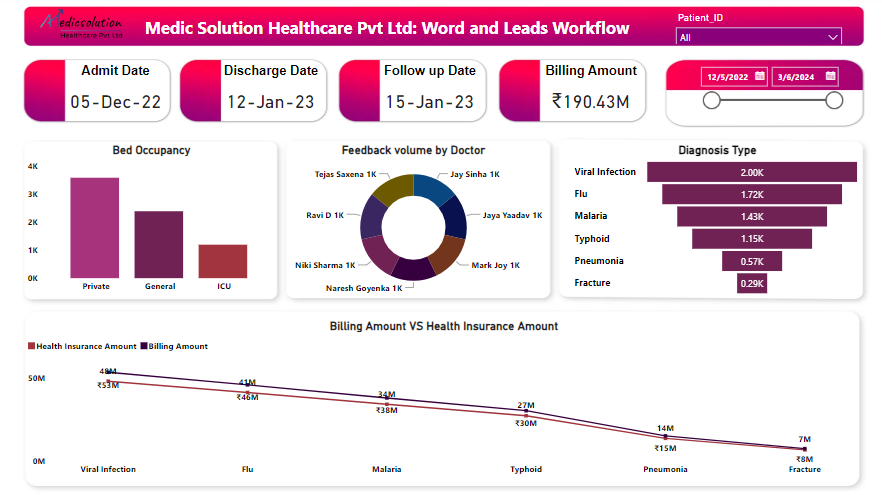

The dashboard page shown, as its layout file describes it:
{"tool":"powerbi","page":{"name":"Page 1","canvas":[1280,720],"ordinal":0},"visuals":[{"type":"image","box":[46.1,11.5,142.6,57.6],"z":0},{"type":"textbox","box":[191.5,23,731.5,57.6],"z":1000},{"type":"slicer","fields":{"Values":["Sheet1 (2).Patient_ID"]},"box":[963.4,17.3,259.2,51.8],"z":2000},{"type":"card","fields":{"Values":["Sheet1 (2).Admit_Date"]},"box":[73.4,125.3,185.8,50.4],"z":3000},{"type":"textbox","box":[92.2,92.2,148.3,44.6],"z":4000},{"type":"textbox","box":[306.7,92.2,167,44.6],"z":5000},{"type":"card","fields":{"Values":["Sheet1 (2).Discharge_Date"]},"box":[296.6,125.3,185.8,50.4],"z":6000},{"type":"textbox","box":[535.7,92.2,167,44.6],"z":7000},{"type":"card","fields":{"Values":["Sheet1 (2).Followup Date"]},"box":[525.6,125.3,185.8,50.4],"z":8000},{"type":"textbox","box":[766.1,92.2,169.9,44.6],"z":9000},{"type":"card","fields":{"Values":["Sheet1 (2).Billing Amount"]},"box":[757.4,125.3,185.8,50.4],"z":10000},{"type":"slicer","fields":{"Values":["Sheet1 (2).Admit_Date"]},"box":[996.5,92.2,226.1,90.7],"z":11000},{"type":"columnChart","title":"Bed Occupancy","fields":{"Category":["Sheet1 (2).Bed_Occupancy"],"Y":["Sheet1 (2).Bed_Occupancy"]},"box":[34.6,211.7,367.2,224.6],"z":12000},{"type":"donutChart","title":"Feedback volume by Doctor","fields":{"Category":["Sheet1 (2).Doctor"],"Y":["Sheet1 (2).Doctor"]},"box":[324,211.7,542.9,224.6],"z":13000},{"type":"funnel","title":"Diagnosis Type","fields":{"Category":["Sheet1 (2).Diagnosis"],"Y":["Sheet1 (2).Diagnosis"]},"box":[822.2,211.7,421.9,224.6],"z":14000},{"type":"lineChart","title":"Billing Amount VS Health Insurance Amount","fields":{"Y":["Sheet1 (2).Health Insurance Amount","Sheet1 (2).Billing Amount"],"Category":["Sheet1 (2).Diagnosis"]},"box":[34.6,465.1,1209.6,234.7],"z":15000}]}

Visuals, with their boxes in screenshot pixels (x1, y1, x2, y2), scaled from the page's 1280x720 canvas onto the 882x495 screenshot:
image: [32,8,130,48]
textbox: [132,16,636,55]
slicer - Sheet1 (2).Patient_ID: [664,12,842,48]
card - Sheet1 (2).Admit_Date: [51,86,179,121]
textbox: [64,63,166,94]
textbox: [211,63,326,94]
card - Sheet1 (2).Discharge_Date: [204,86,332,121]
textbox: [369,63,484,94]
card - Sheet1 (2).Followup Date: [362,86,490,121]
textbox: [528,63,645,94]
card - Sheet1 (2).Billing Amount: [522,86,650,121]
slicer - Sheet1 (2).Admit_Date: [687,63,842,126]
"Bed Occupancy" columnChart: [24,146,277,300]
"Feedback volume by Doctor" donutChart: [223,146,597,300]
"Diagnosis Type" funnel: [567,146,857,300]
"Billing Amount VS Health Insurance Amount" lineChart: [24,320,857,481]
